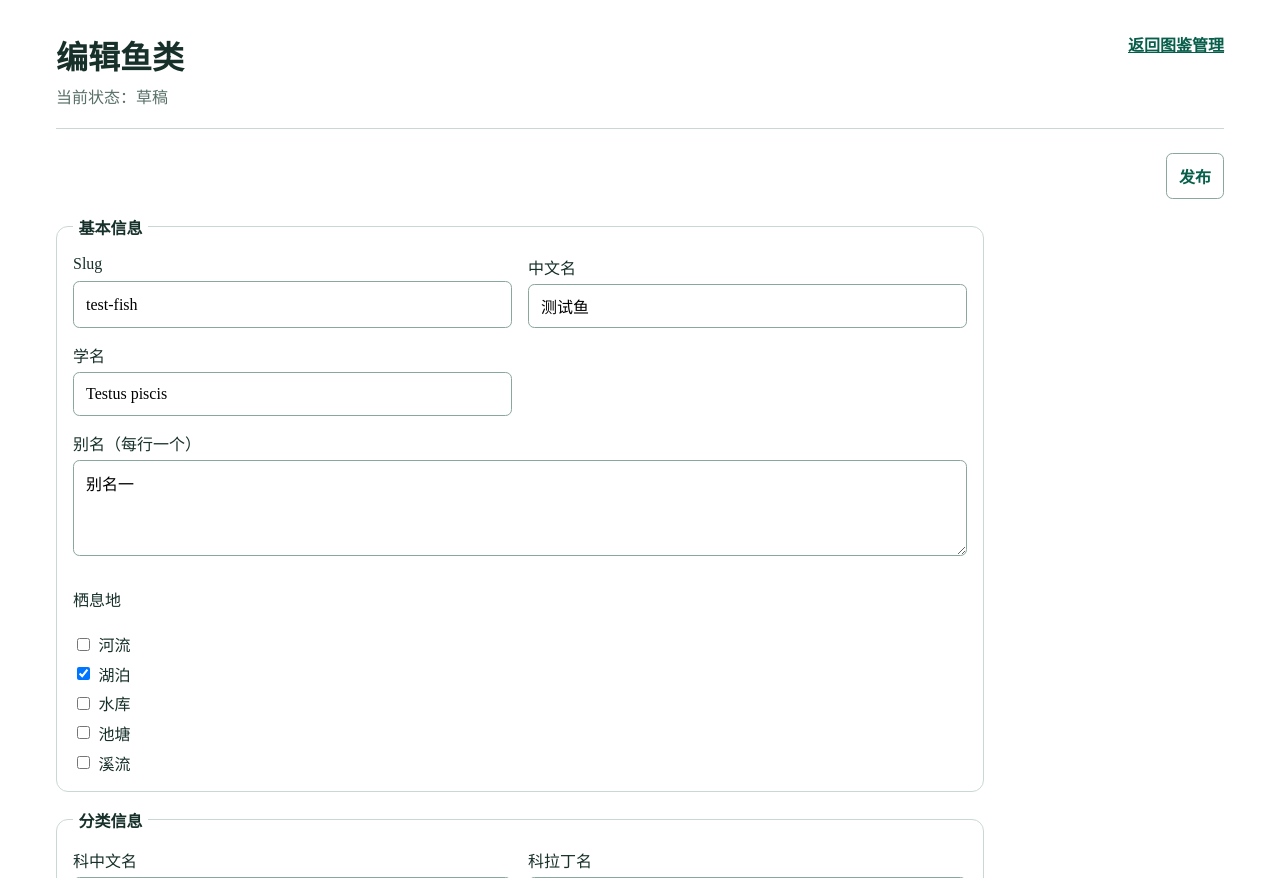
it: renders a safe publication transition error and expires a confirmed unauthorized session
Click the button "发布".
click(1195, 176)  # box x1=1166 y1=153 x2=1224 y2=199
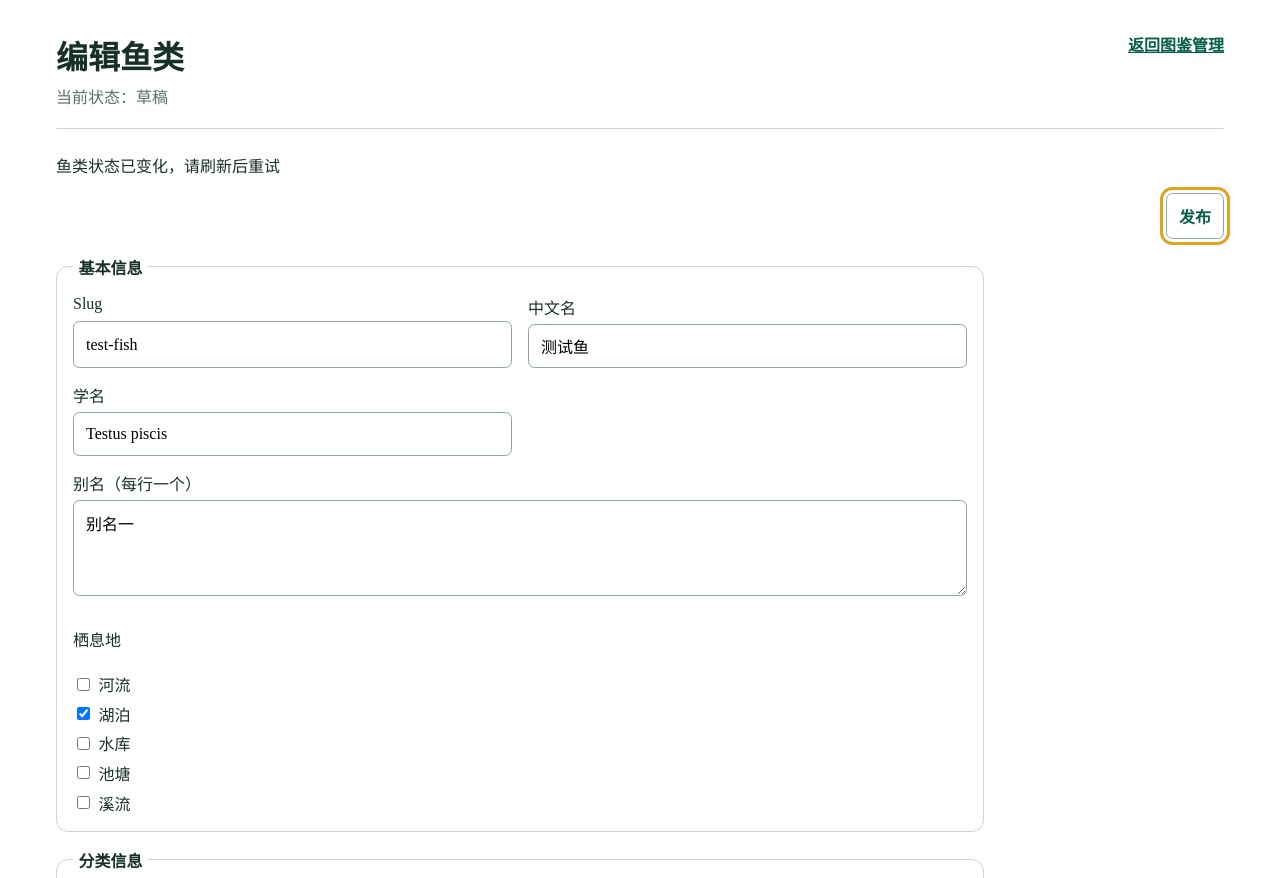
Expected: the text "鱼类状态已变化，请刷新后重试" is shown, x1=56 y1=158 x2=280 y2=175
